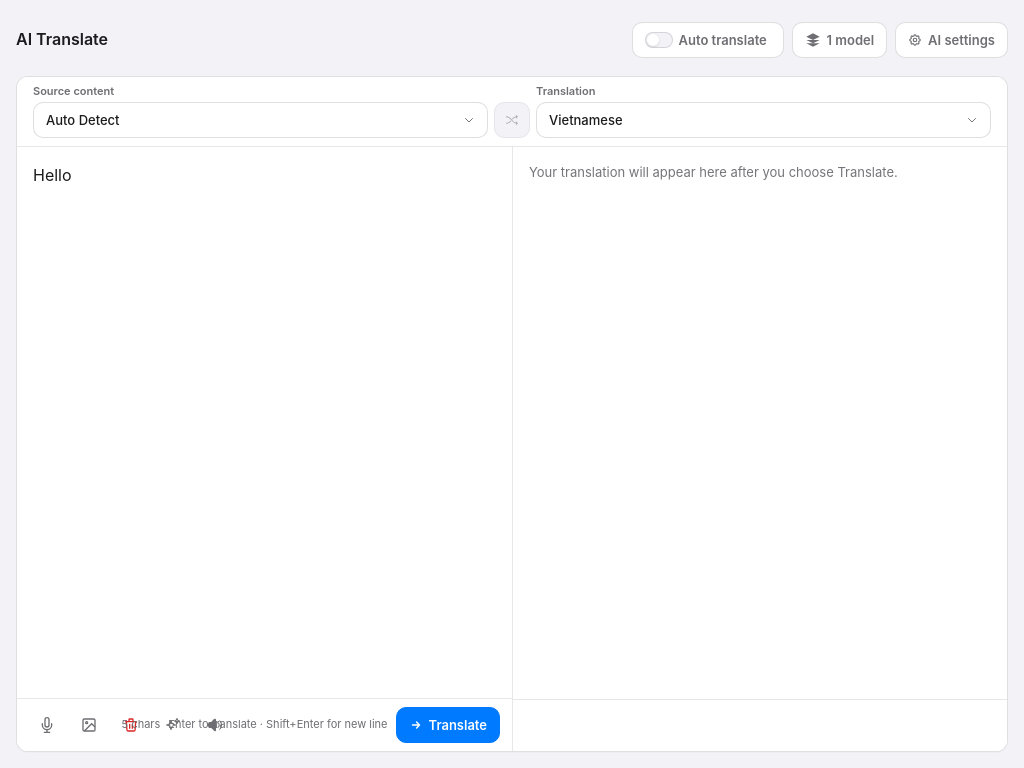
Test case: TranslatePage › keeps swap disabled for Auto until the source language is detected
Click the button "Translate": (448, 725) 396,707 -> 500,743
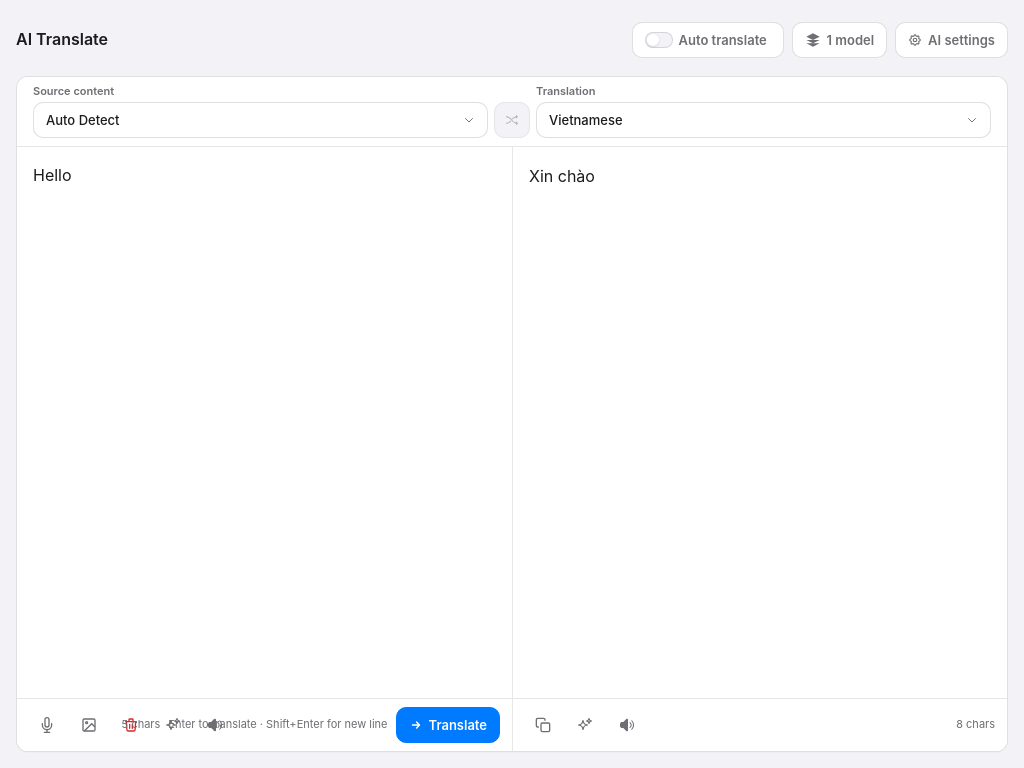
Expected: the button named "Swap languages" is disabled, 494,102 -> 530,138
Result: the text "Xin chào" is shown at 529,166 -> 595,186
